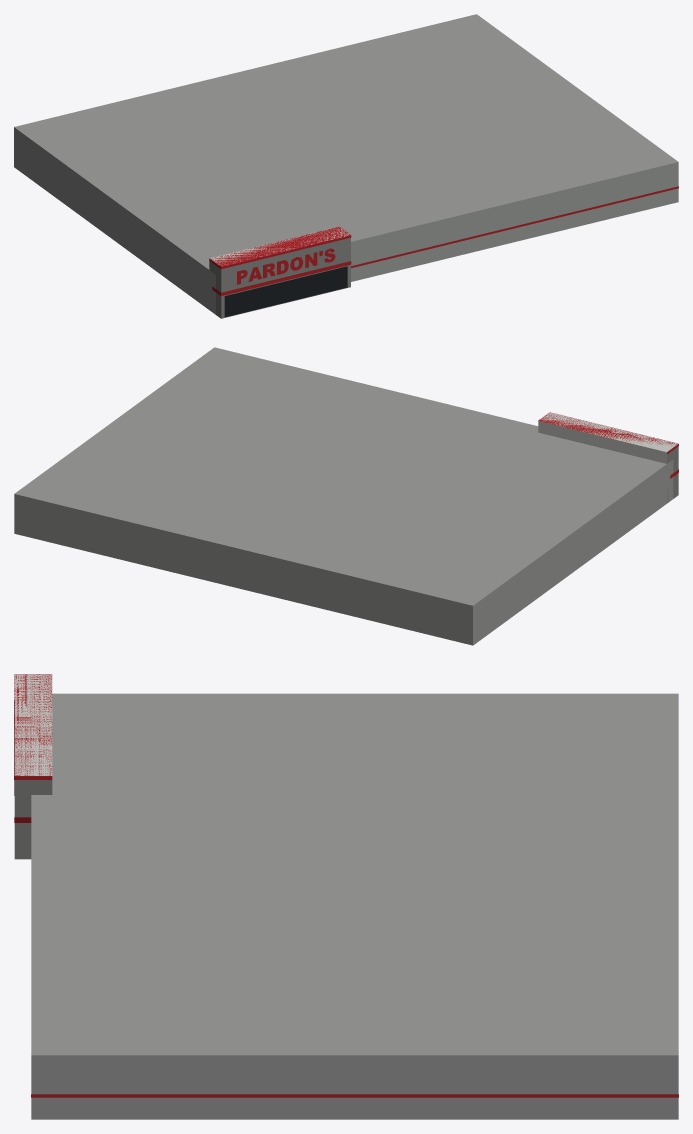
Rendered from pardons_far.glb.
3 views of the same model, one above another, from view 1: azimuth 30°, elevation 25°; view 2: azimuth 150°, elevation 25°; view 3: azimuth 270°, elevation 25° (orthographic). The views are drawn at different scales.
Visible parts, largest first — view 1: pd_far; view 2: pd_far; view 3: pd_far.
Boxes of the visible parts, x1,y1,x2,y2 form: pd_far: (14,14,678,318); pd_far: (14,347,678,645); pd_far: (14,674,678,1119).
Size of the model in its own units: 82.08 by 8.8 by 63.7.
